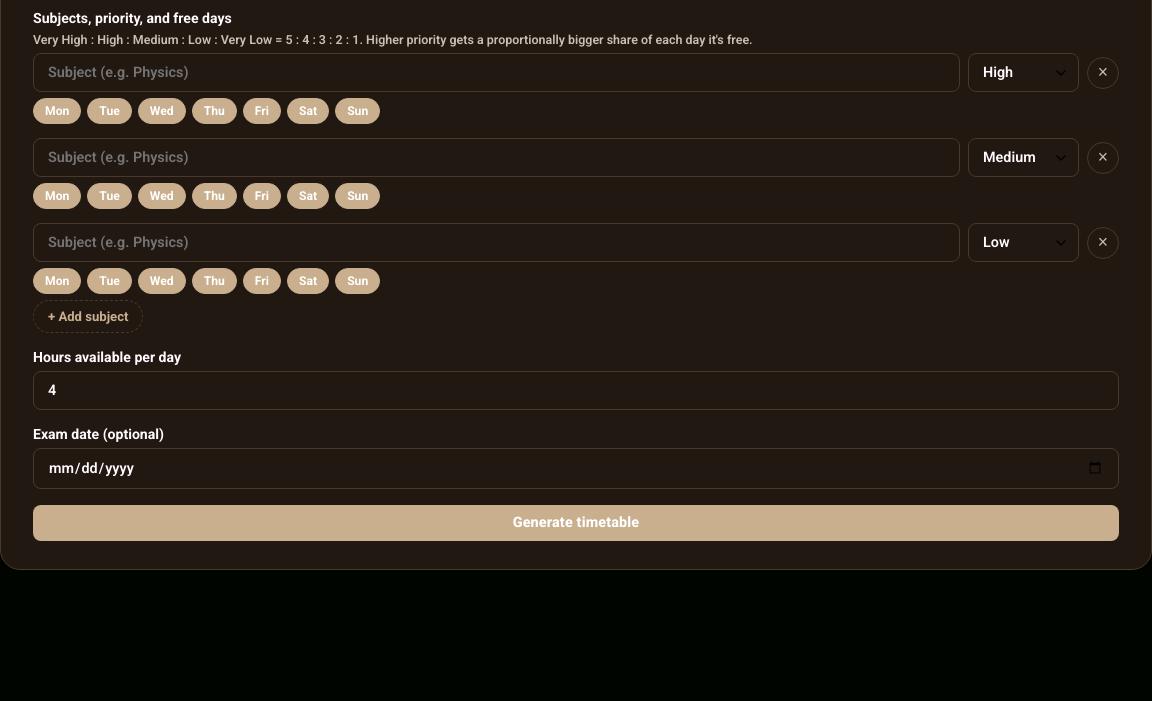
Scenario: TimetableGenerator — priority-weighted split › splits each day's hours proportionally to High:Medium:Low = 4:3:2 on the 5-level scale
The width and height of the screenshot is (1152, 701).
Type "Physics" into the 1st field with placeholder "Subject (e.g. Physics)" at (496,72), box [33, 53, 960, 92]
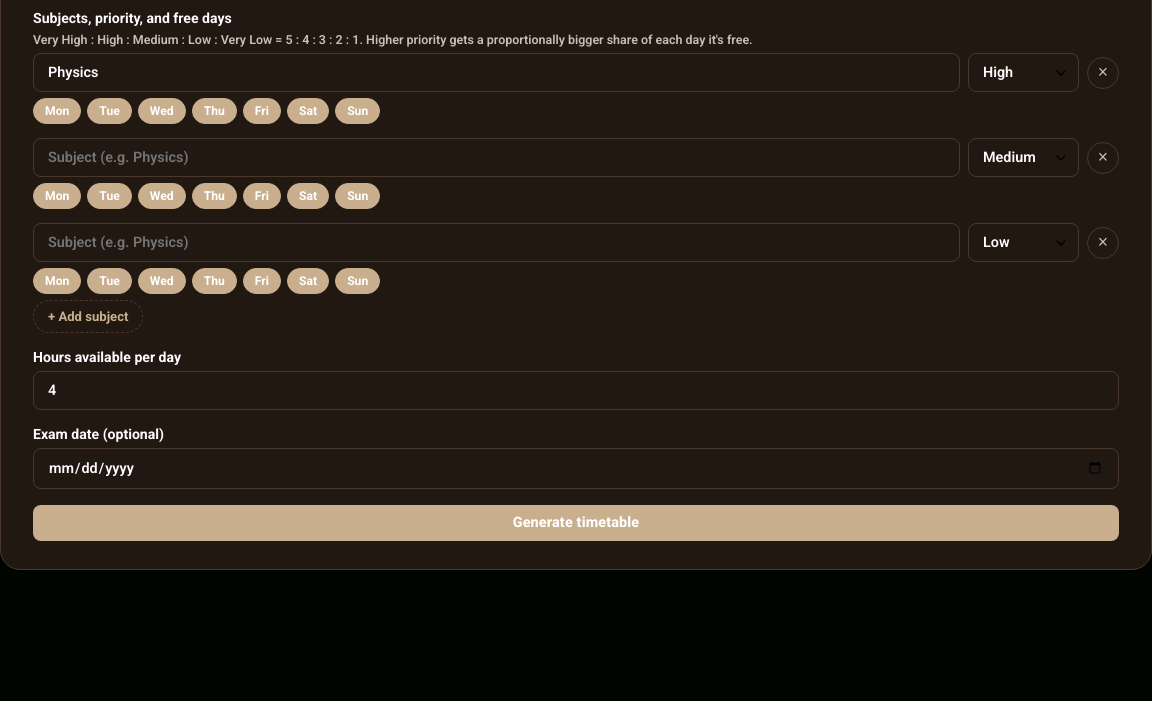
Type "Math" into the 1st field with placeholder "Subject (e.g. Physics)" at (496,158), box [33, 138, 960, 177]
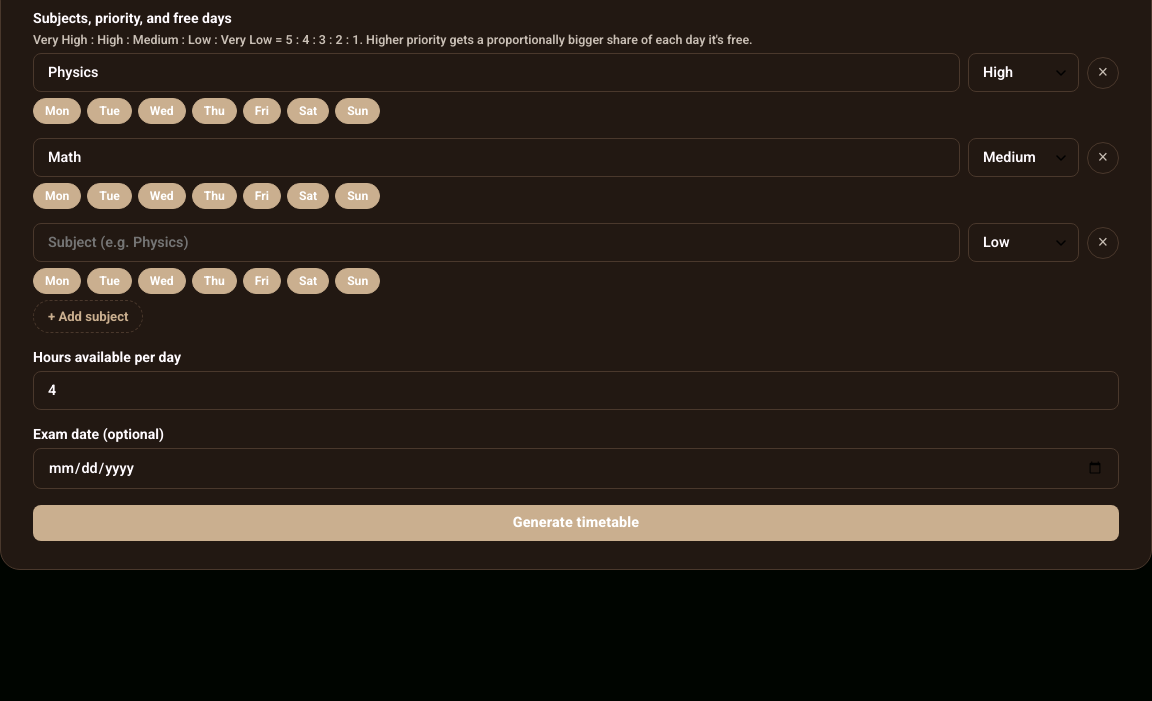
Type "Chemistry" into the field with placeholder "Subject (e.g. Physics)" at (496,242), box [33, 223, 960, 262]
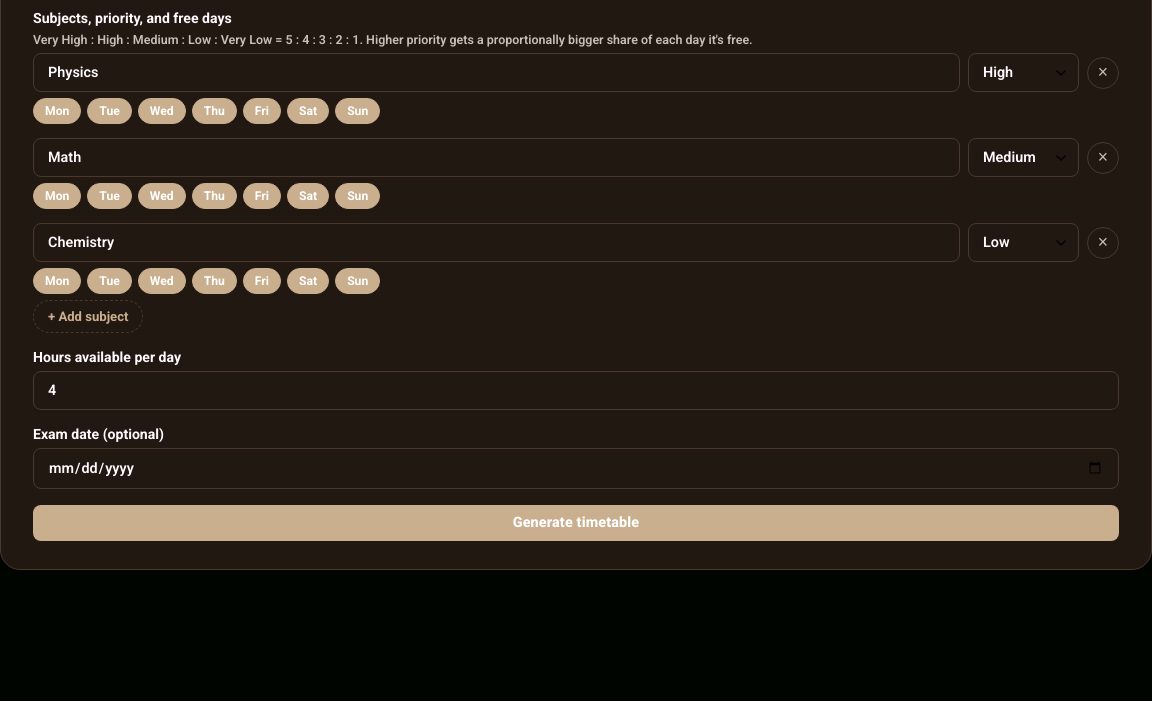
Replace the text in the number field labelled "Hours available per day" with "9" at (576,390), box [33, 371, 1119, 410]
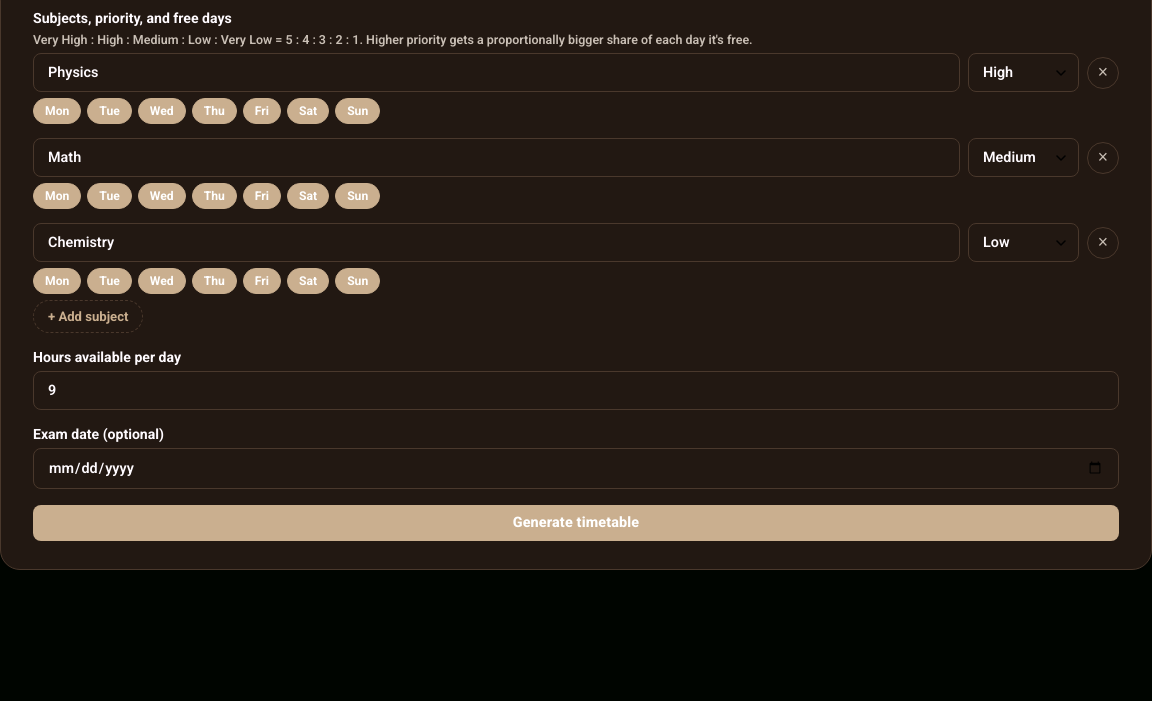
Click the button "Generate timetable" at (576,523), box [33, 505, 1119, 541]
(page scrolled)
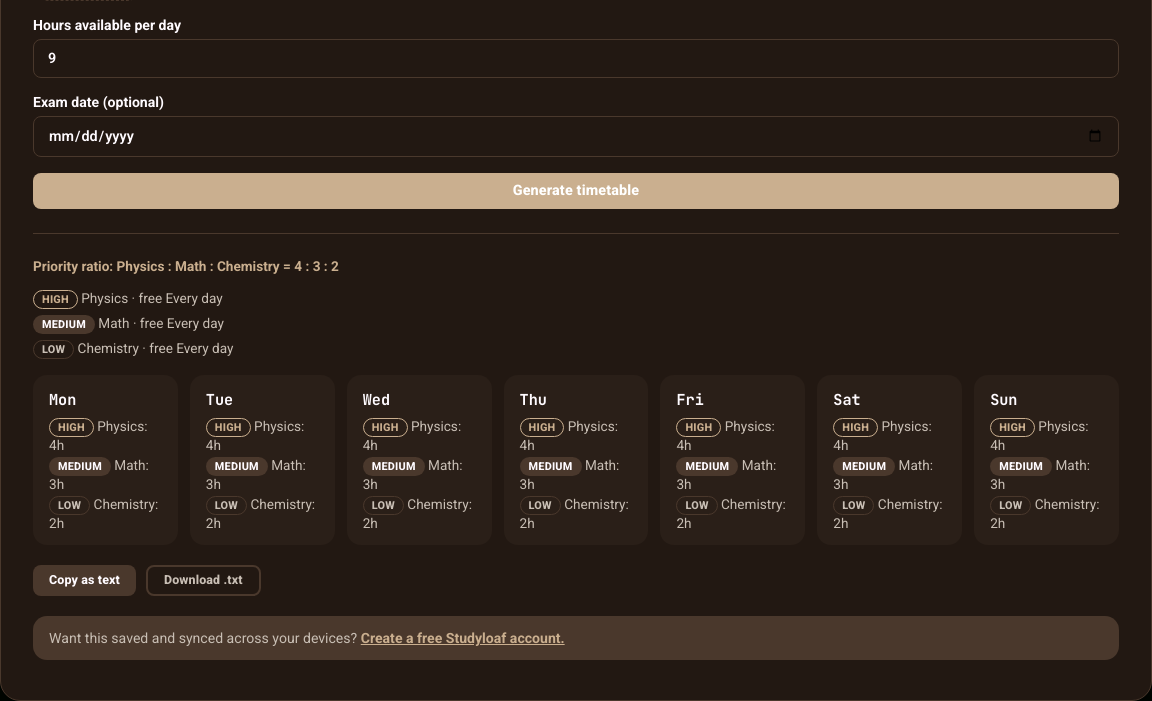
Check: the text "Priority ratio: Physics : Math : Chemistry = 4 : 3 : 2" is shown, box [33, 258, 339, 274]
Check: the 1st list item "High Physics: 4h" is shown, box [49, 418, 162, 453]
Check: the 1st list item "Medium Math: 3h" is shown, box [49, 457, 162, 492]
